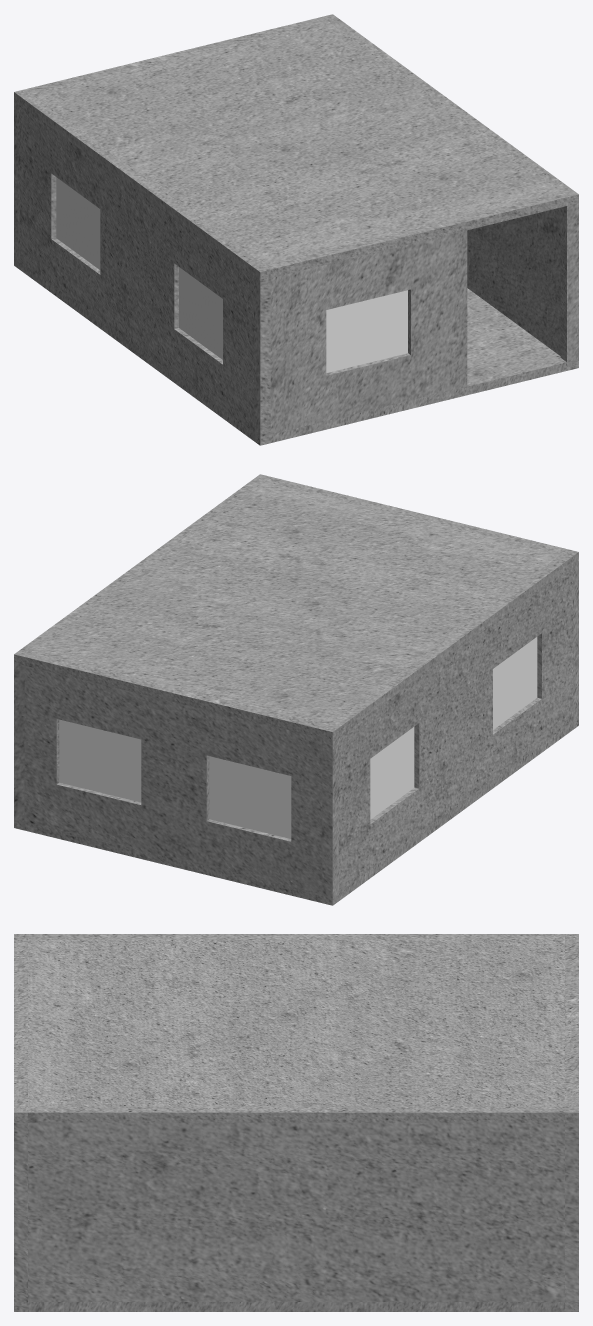
The model's file is 5L-sq-l-op-art.obj.
The picture shows the model from 3 angles, top to bottom: view 1: azimuth 30°, elevation 25°; view 2: azimuth 150°, elevation 25°; view 3: azimuth 270°, elevation 25°; orthographic projection. The views are drawn at different scales.
Parts seen in each view (by area): view 1: object_1, object_8, object_2, object_7, object_4, object_3; view 2: object_1, object_8, object_5, object_6, object_2, object_3, object_4; view 3: object_1, object_8, object_2.
Part boxes in pixels (left/top/right/bottom): object_1: left=14, top=14, right=578, bottom=280; object_8: left=14, top=101, right=578, bottom=436; object_2: left=14, top=257, right=578, bottom=445; object_7: left=326, top=290, right=407, bottom=372; object_4: left=56, top=177, right=100, bottom=269; object_3: left=179, top=267, right=222, bottom=359; object_1: left=14, top=474, right=578, bottom=740; object_8: left=14, top=561, right=578, bottom=896; object_5: left=59, top=719, right=141, bottom=802; object_6: left=209, top=756, right=291, bottom=838; object_2: left=14, top=717, right=578, bottom=905; object_3: left=493, top=637, right=537, bottom=729; object_4: left=370, top=727, right=414, bottom=819; object_1: left=14, top=934, right=578, bottom=1122; object_8: left=14, top=1122, right=578, bottom=1301; object_2: left=14, top=1302, right=578, bottom=1311.
Size of the model in its own units: 7.97 by 4.15 by 10.66.
Materials: 2 (1 with a texture image).
